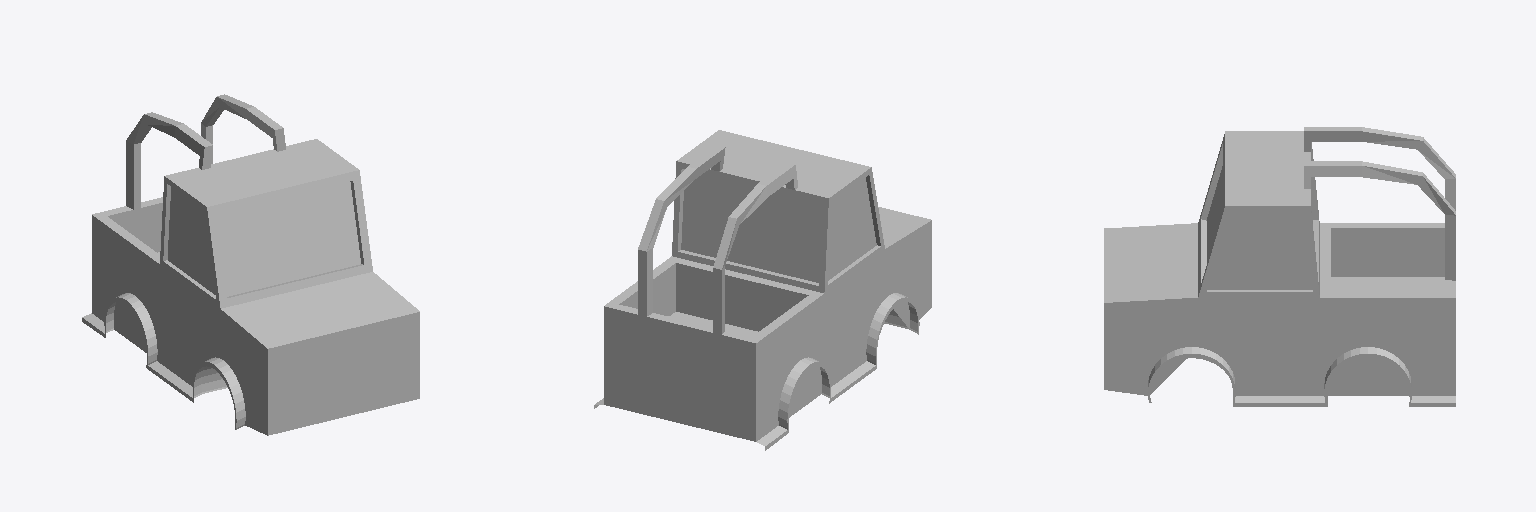
Rendered from truck.obj.
3 views of the same model, side by side, from view 1: azimuth 30°, elevation 25°; view 2: azimuth 150°, elevation 25°; view 3: azimuth 270°, elevation 25° (orthographic).
Parts seen in each view (by area): view 1: Truck; view 2: Truck; view 3: Truck.
Part boxes in pixels (x1,y1,x2,y2): Truck: (82,94,419,435); Truck: (594,130,931,450); Truck: (1104,127,1455,406).
Size of the model in its own units: 2.24 by 2.75 by 4.